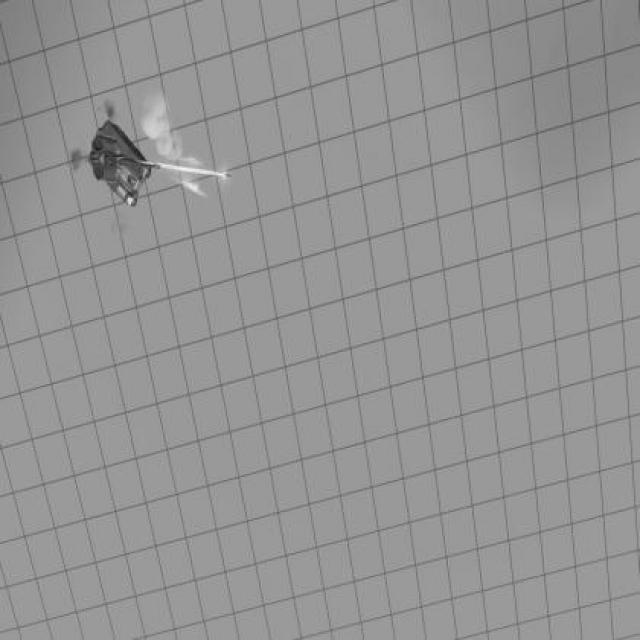tank: (87, 119, 163, 212)
